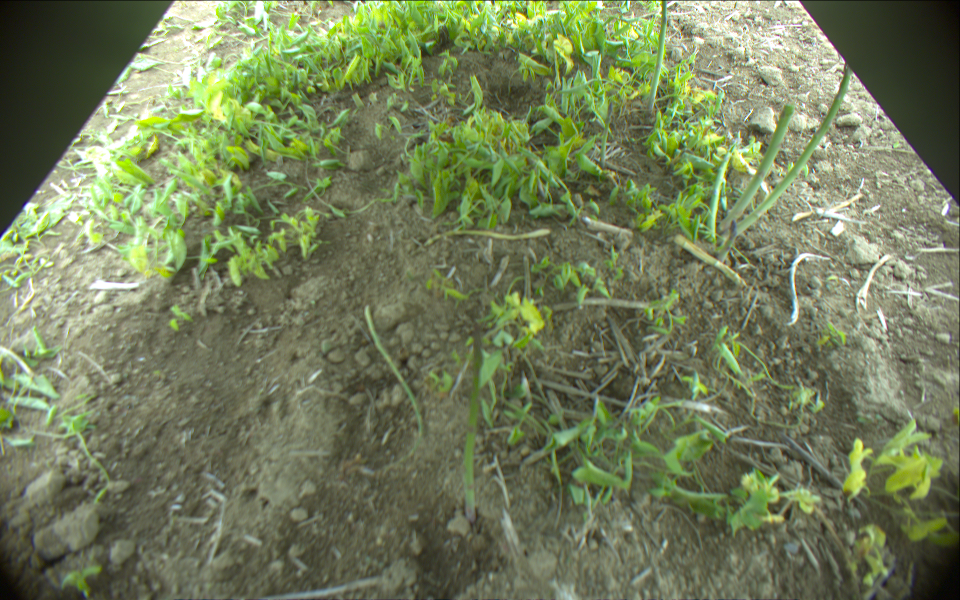aspa: (738, 62, 854, 232), (722, 98, 796, 232), (363, 305, 429, 437), (453, 320, 483, 519), (667, 234, 747, 289), (708, 142, 737, 242), (647, 1, 669, 114)
